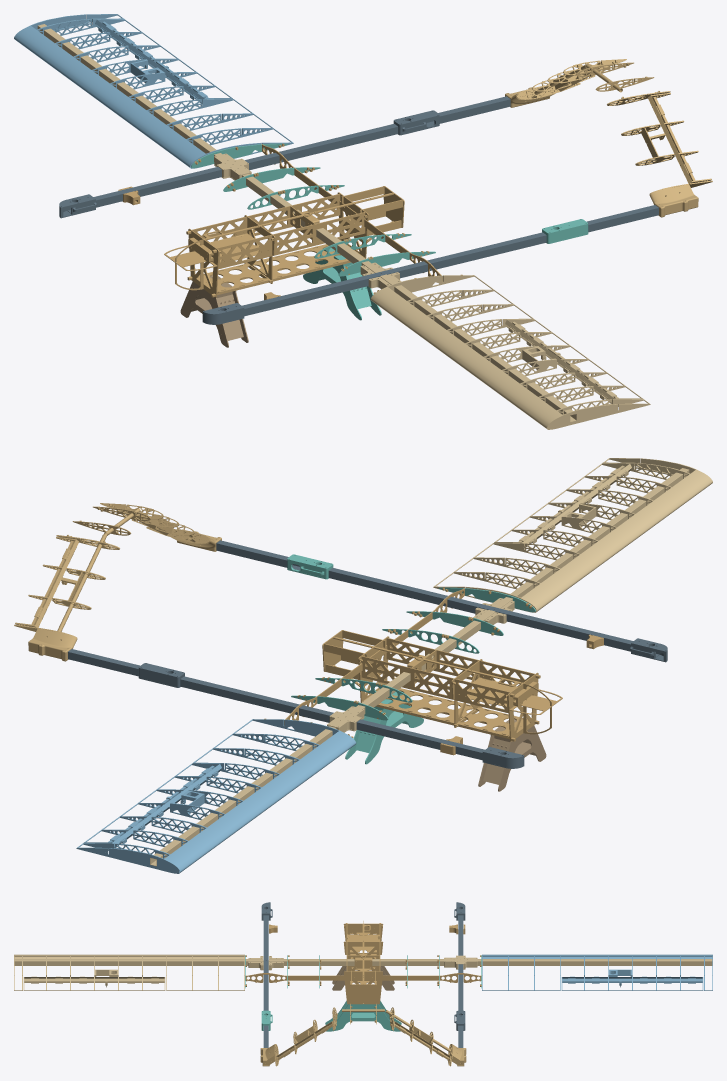
The model's file is spearhead-v2.glb.
3 renders of one model, top to bottom at view 1: azimuth 30°, elevation 25°; view 2: azimuth 150°, elevation 25°; view 3: azimuth 270°, elevation 25°, orthographic. The views are drawn at different scales.
Visible parts, largest first — view 1: Body1 (×2), Body145, Body145_mirrored_inferred, Body2, beam_left, Body4, Body65, Body67, beam_right, Body66, mid_spar, Body164 (+8 smaller); view 2: Body145_mirrored_inferred, Body145, Body1, Body2, beam_right, Body4, Body65, Body67, beam_left, Body66, mid_spar, Body164_mirrored_inferred (+9 smaller); view 3: Body65, Body67, mid_spar, Body145, Body145_mirrored_inferred, Body66, Body5 (1), sta3, Body1, Body2, sta4, sta2 (+6 smaller).
Part boxes in pixels (<box>): Body1 (×2): <box>223,184,698,316</box>; Body145: <box>370,286,562,429</box>; Body145_mirrored_inferred: <box>14,25,206,168</box>; Body2: <box>67,96,510,213</box>; beam_left: <box>215,212,365,269</box>; Body4: <box>192,240,363,293</box>; Body65: <box>380,274,576,422</box>; Body67: <box>37,24,221,161</box>; beam_right: <box>190,193,340,251</box>; Body66: <box>242,173,381,273</box>; mid_spar: <box>262,144,442,281</box>; Body164: <box>547,403,649,429</box>; Body145_mirrored_inferred: <box>164,730,356,873</box>; Body145: <box>520,469,712,612</box>; Body1: <box>216,540,659,657</box>; Body2: <box>68,649,503,760</box>; beam_right: <box>361,656,511,713</box>; Body4: <box>363,684,534,737</box>; Body65: <box>493,468,689,608</box>; Body67: <box>150,726,336,866</box>; beam_left: <box>386,637,536,695</box>; Body66: <box>356,610,495,714</box>; mid_spar: <box>284,588,464,725</box>; Body164_mirrored_inferred: <box>77,847,179,873</box>; Body65: <box>14,959,263,965</box>; Body67: <box>477,959,712,965</box>; mid_spar: <box>245,973,481,982</box>; Body145: <box>14,954,244,958</box>; Body145_mirrored_inferred: <box>482,954,712,958</box>; Body66: <box>269,959,443,965</box>; Body5 (1): <box>326,1004,400,1031</box>; sta3: <box>344,971,382,1004</box>; Body1: <box>263,915,268,1047</box>; Body2: <box>458,915,463,1047</box>; sta4: <box>350,984,376,1003</box>; sta2: <box>343,941,383,971</box>.
Size of the model in its own units: 2.21 by 0.6517 by 3.95.
